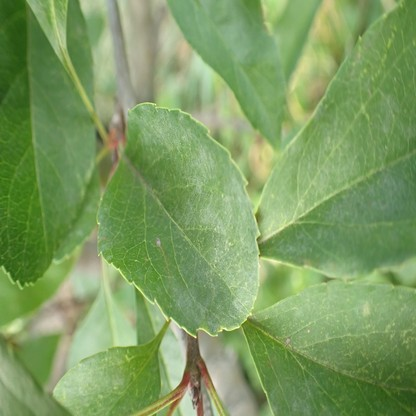powder: (131, 103, 259, 338), (257, 92, 416, 279), (241, 276, 415, 416), (54, 345, 135, 407), (99, 206, 118, 263)
